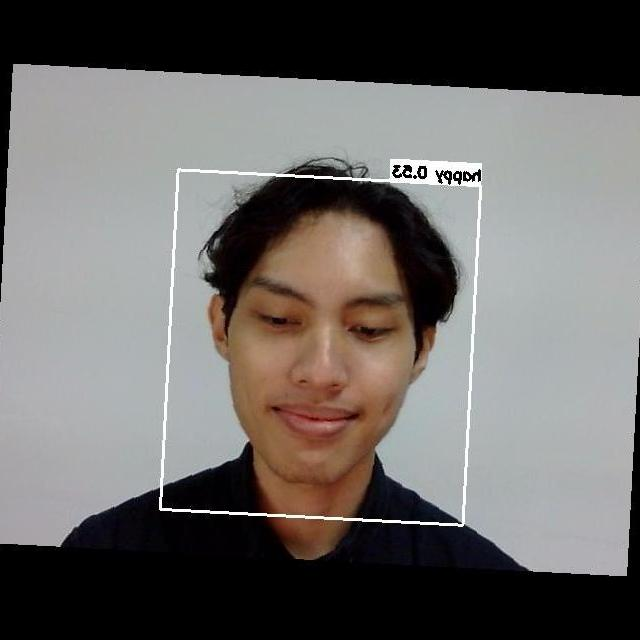Happy: (227, 250, 420, 461)
